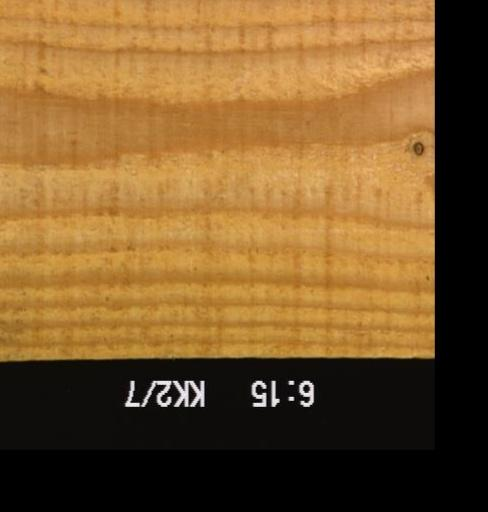dry_knot: (408, 138, 426, 158)
